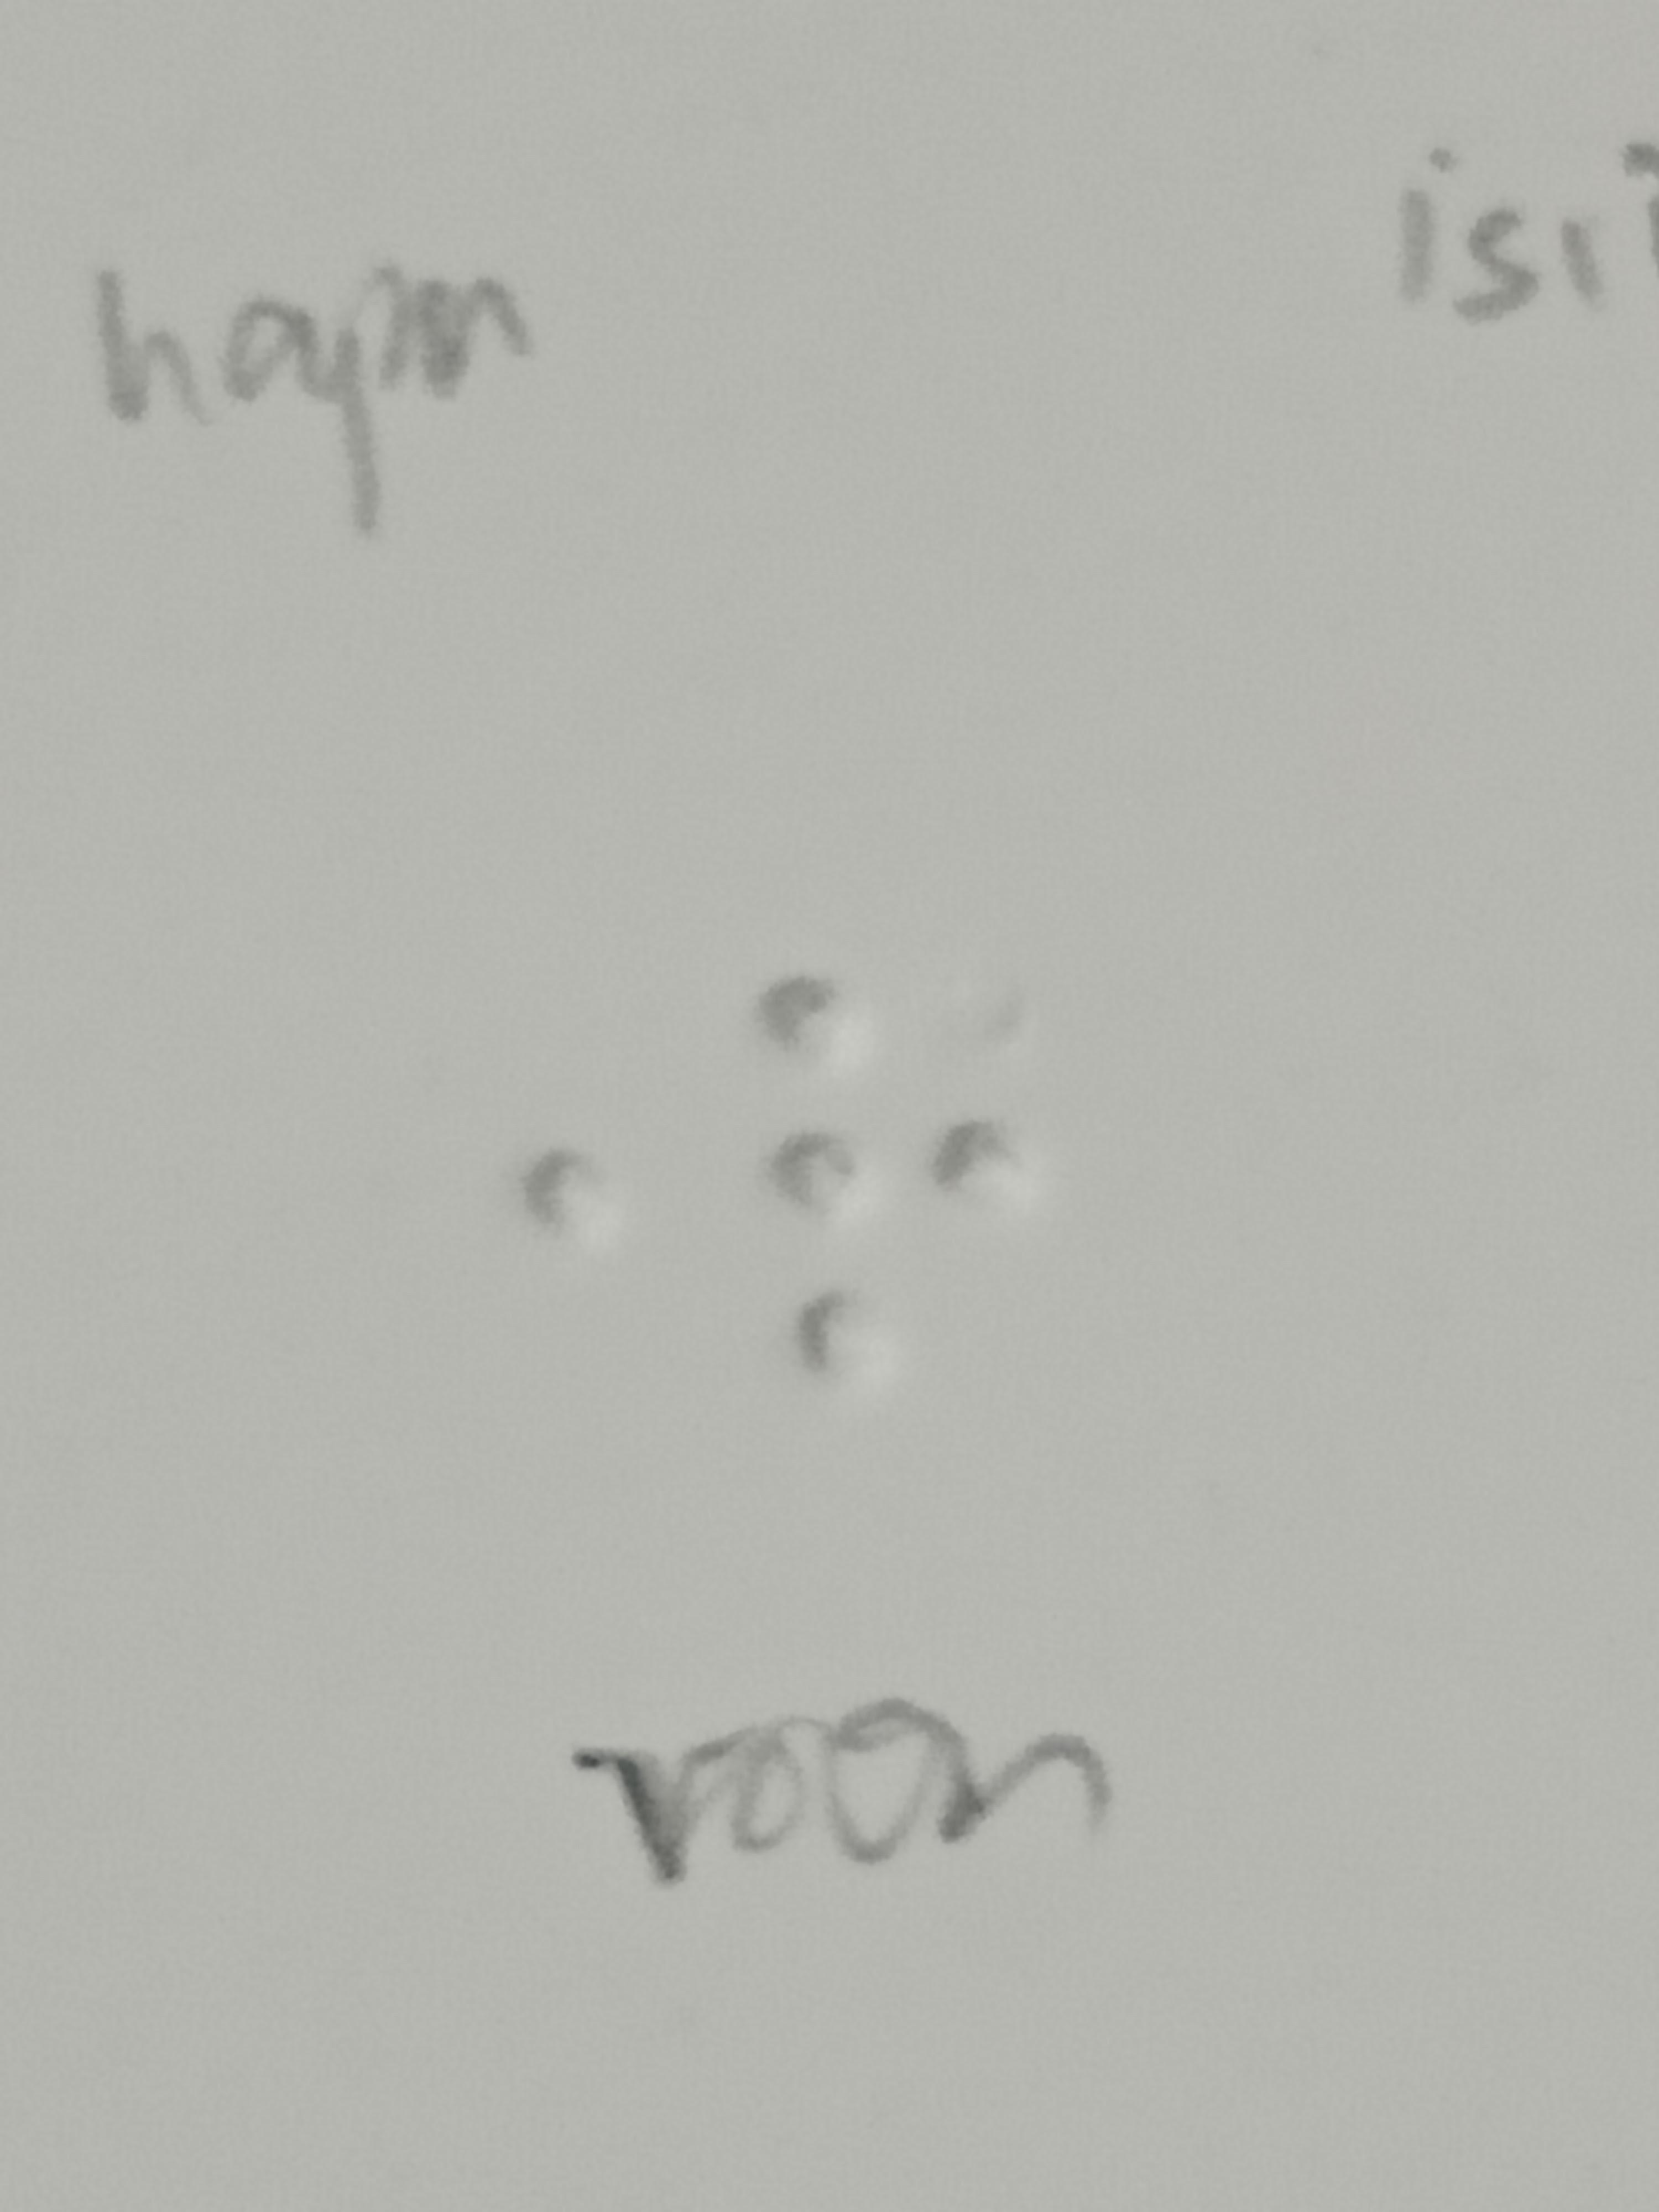dot_5: (350, 967, 615, 1406)
two_cell_alphabet_roon: (758, 958, 1040, 1397)
